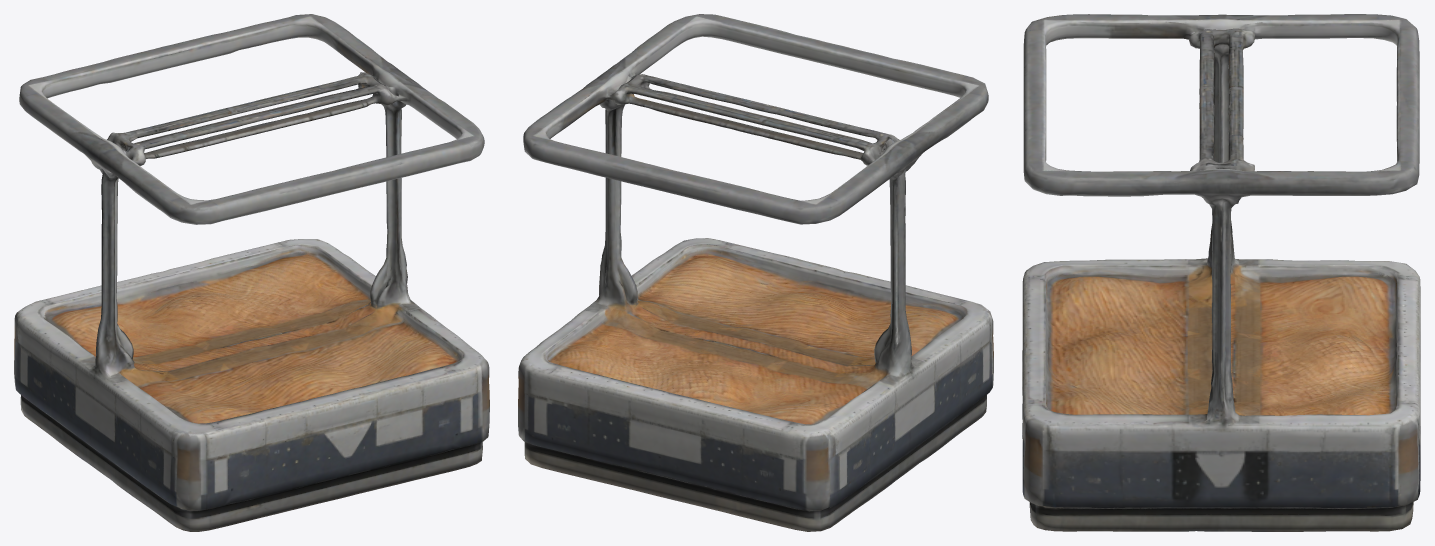
The model's file is bubbleplanter.fbx.
3 renders of one model, left to right at view 1: azimuth 30°, elevation 25°; view 2: azimuth 150°, elevation 25°; view 3: azimuth 270°, elevation 25°, orthographic. The views are drawn at different scales.
Visible parts, largest first — view 1: Mesh1_Mesh1.016; view 2: Mesh1_Mesh1.016; view 3: Mesh1_Mesh1.016.
Boxes of the visible parts, x1=… form: Mesh1_Mesh1.016: x1=14, y1=14, x2=489, y2=531; Mesh1_Mesh1.016: x1=518, y1=14, x2=993, y2=531; Mesh1_Mesh1.016: x1=1022, y1=14, x2=1420, y2=531.
Size of the model in its own units: 200 by 198 by 200.
1 material, 1 textured.
